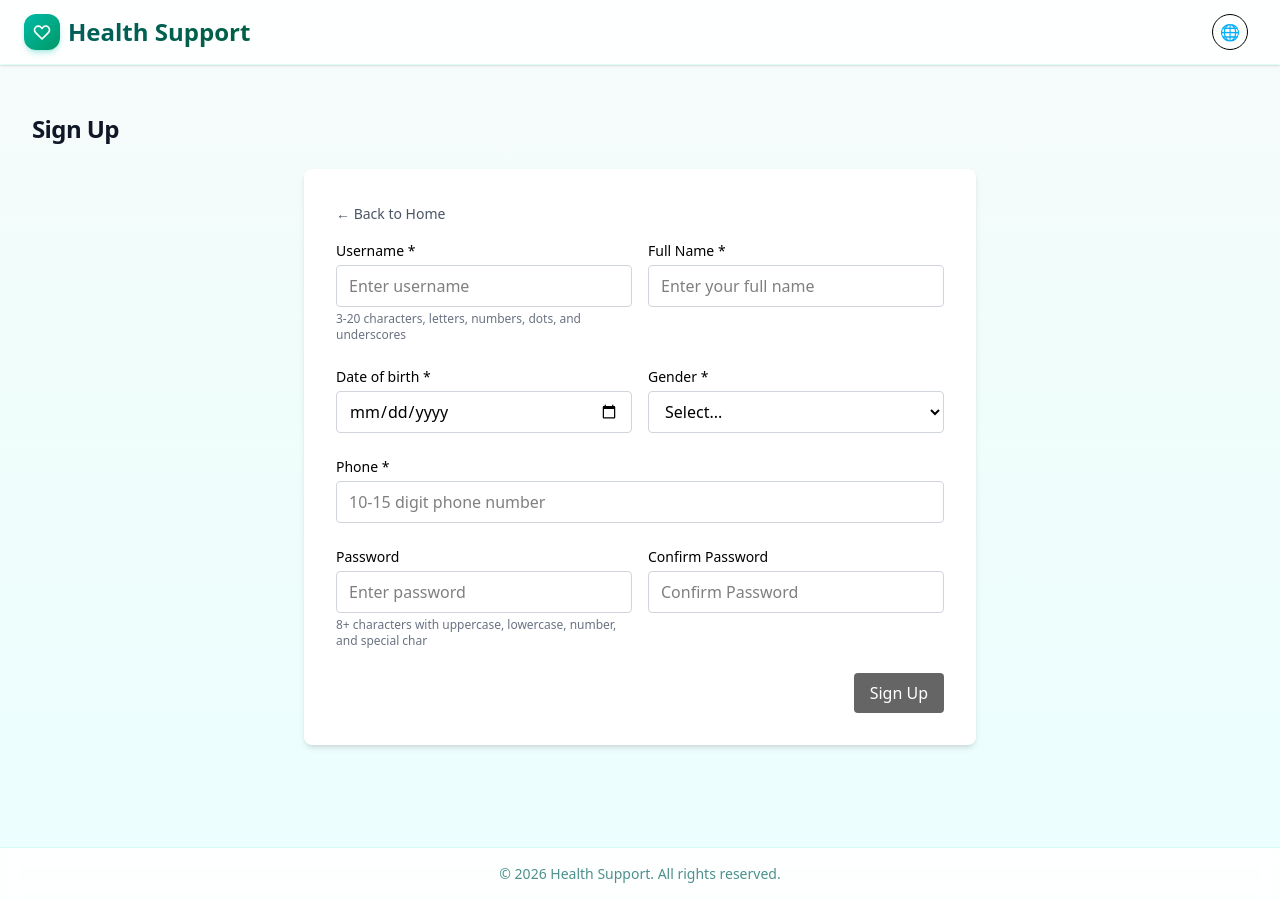
Signup › Validation › shows error for invalid username
Type "_bad" into the field labelled "Username *". click: [484, 286]
box: [336, 265, 632, 307]
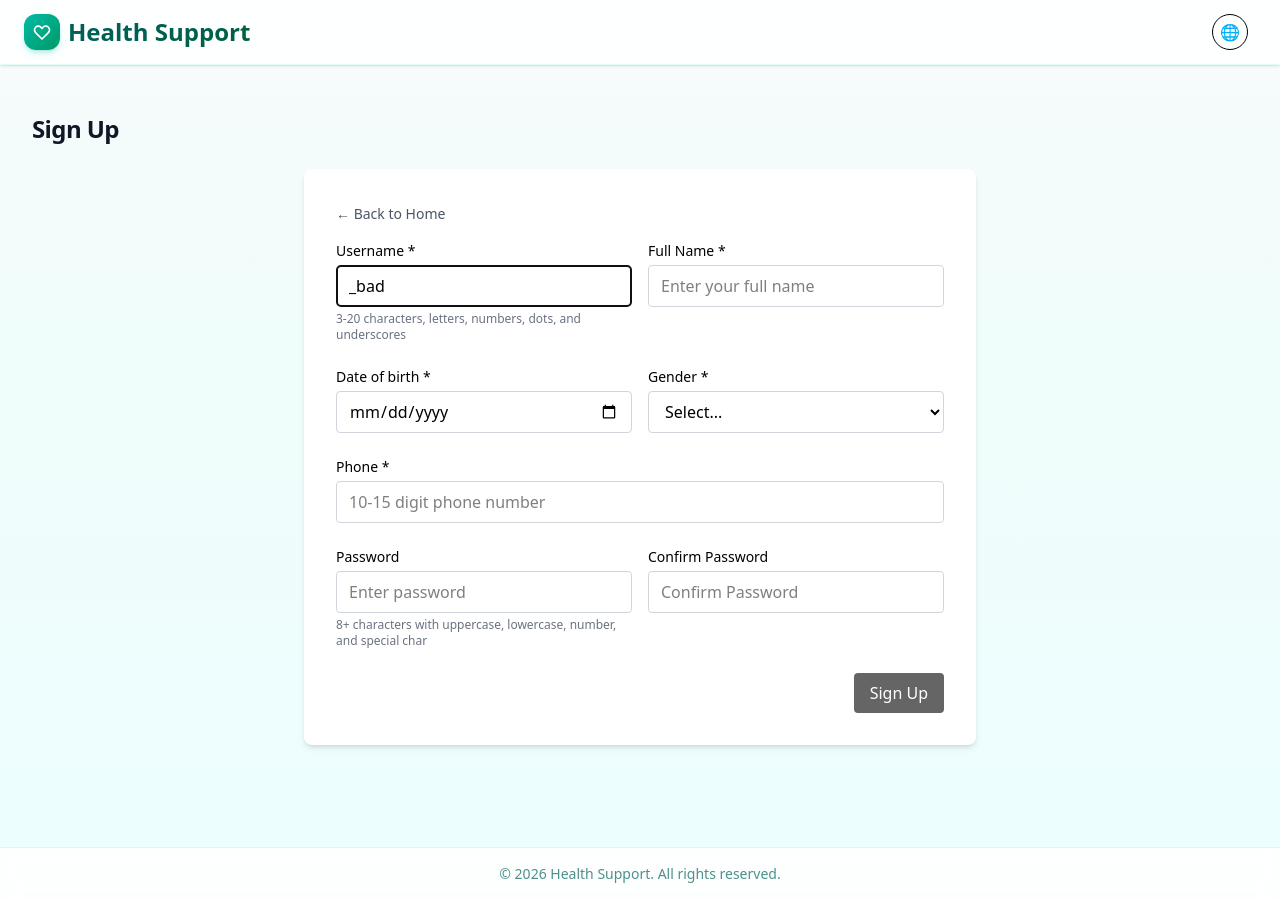
Press Tab
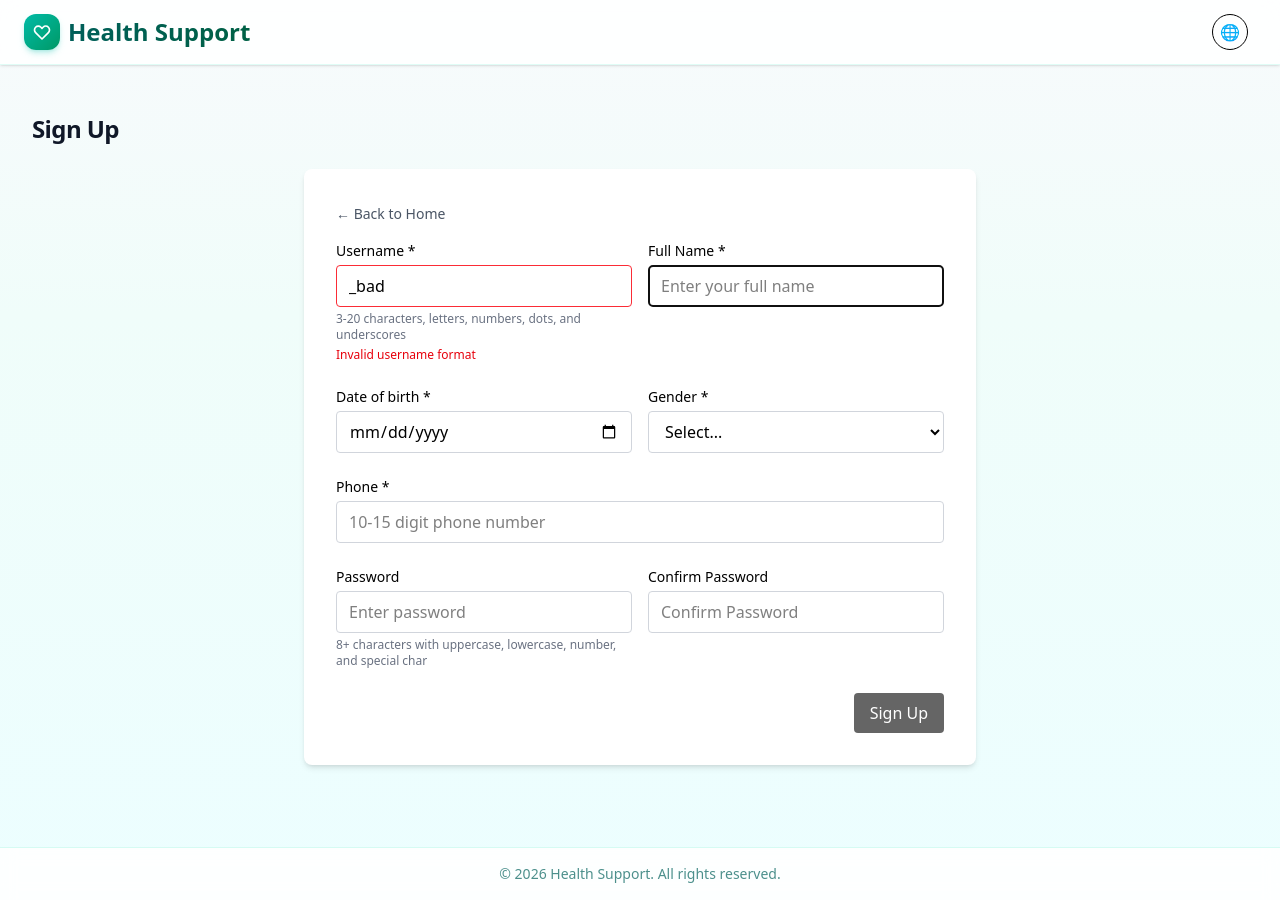
Expected: the text "Invalid username format" is shown, [336, 346, 476, 363]
